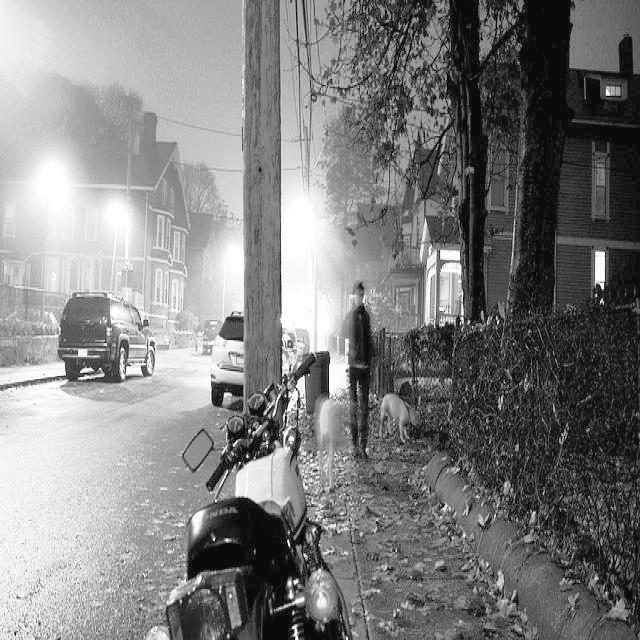Car: (48, 276, 162, 428), (200, 289, 299, 404)
Motorcycle: (157, 347, 339, 640)
Tree: (510, 0, 576, 369), (440, 0, 493, 330)
